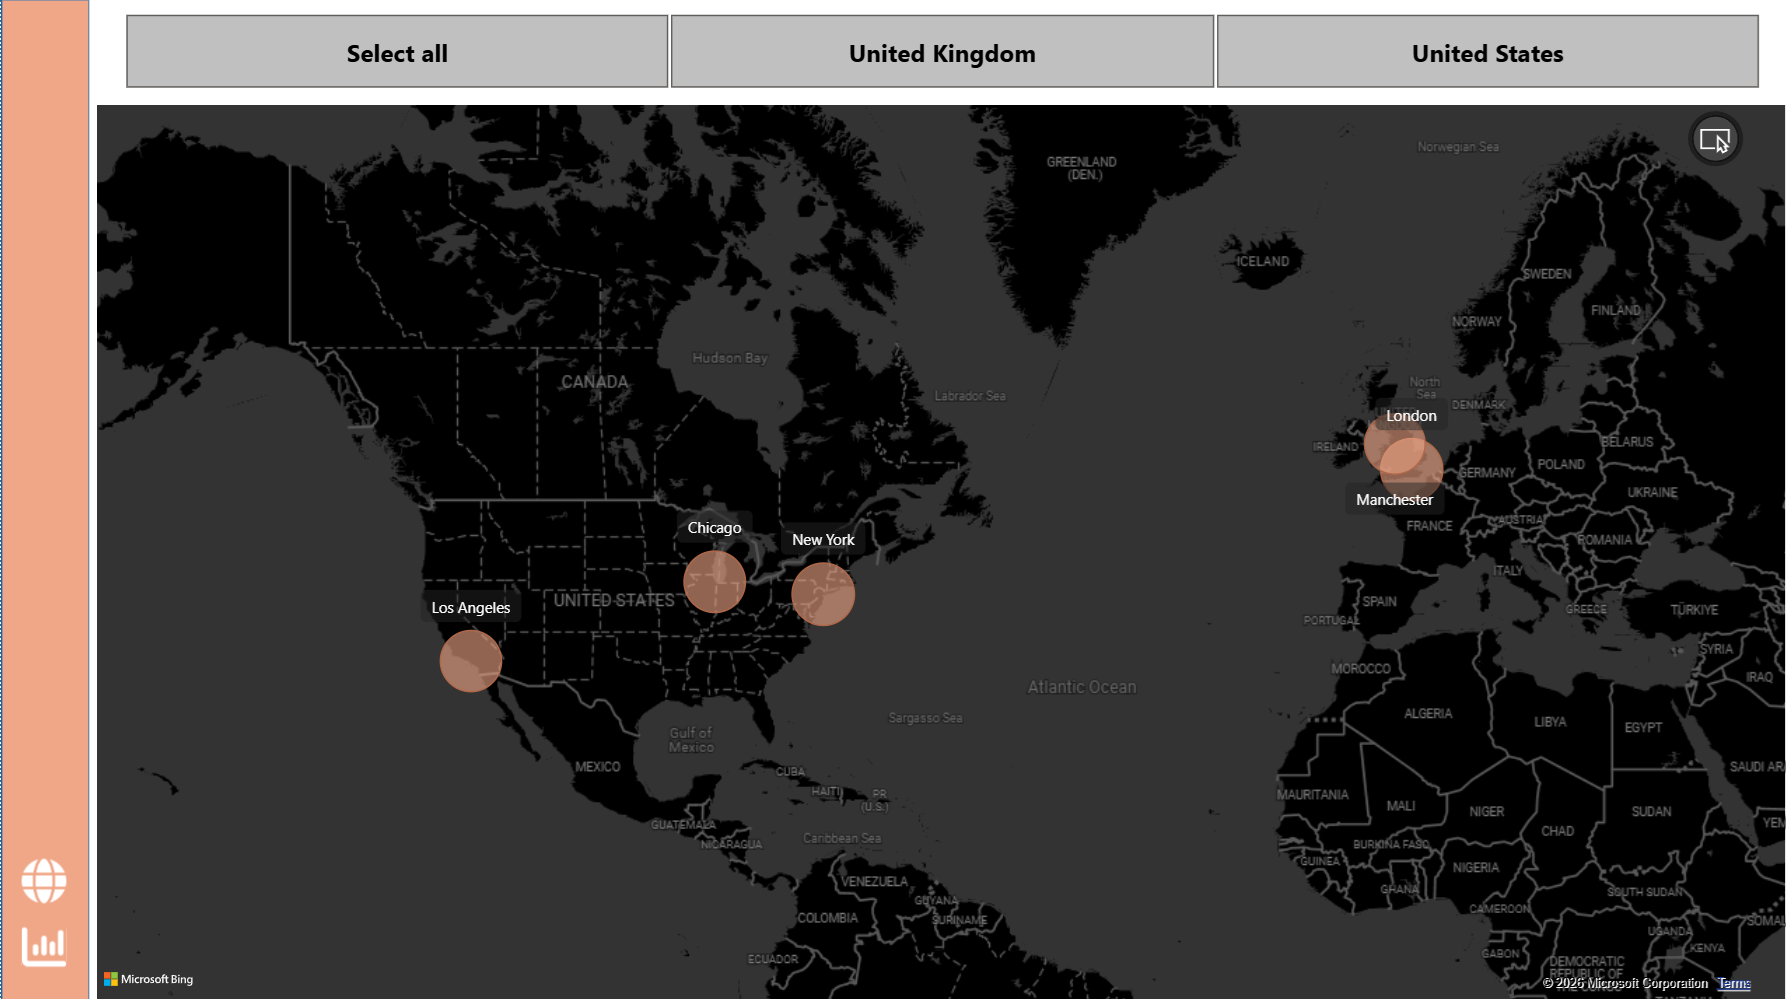

The dashboard page shown, as its layout file describes it:
{"tool":"powerbi","page":{"name":"Page 2","canvas":[1280,720],"ordinal":1},"visuals":[{"type":"map","fields":{"Category":["stores.city_name"],"Size":["Table Measures.Total Orders"]},"box":[63.8,70.8,1216.2,649.2],"z":0},{"type":"slicer","fields":{"Values":["stores.country"]},"box":[63.8,4.6,1216.2,66.2],"z":1000},{"type":"shape","box":[0,0,63.5,720.1],"z":2000},{"type":"actionButton","box":[10.8,610,40.8,40],"z":3000},{"type":"actionButton","box":[10.8,656.9,40.8,40],"z":4000}]}

Visuals, with their boxes in screenshot pixels (x1, y1, x2, y2):
map - stores.city_name x Table Measures.Total Orders: <bbox>87, 102, 1753, 991</bbox>
slicer - stores.country: <bbox>87, 11, 1753, 102</bbox>
shape: <bbox>0, 5, 87, 991</bbox>
actionButton: <bbox>15, 840, 71, 895</bbox>
actionButton: <bbox>15, 904, 71, 959</bbox>
